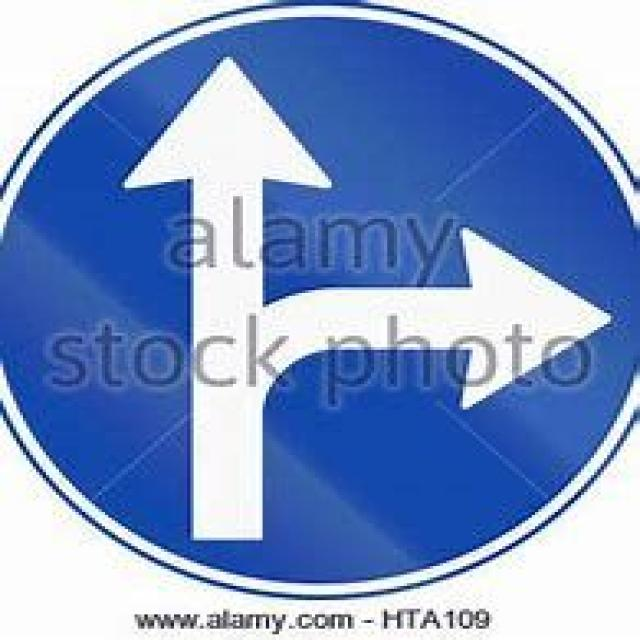COMPULSARY_AHEAD_OR_TURN_RIGHT: (0, 1, 640, 598)
